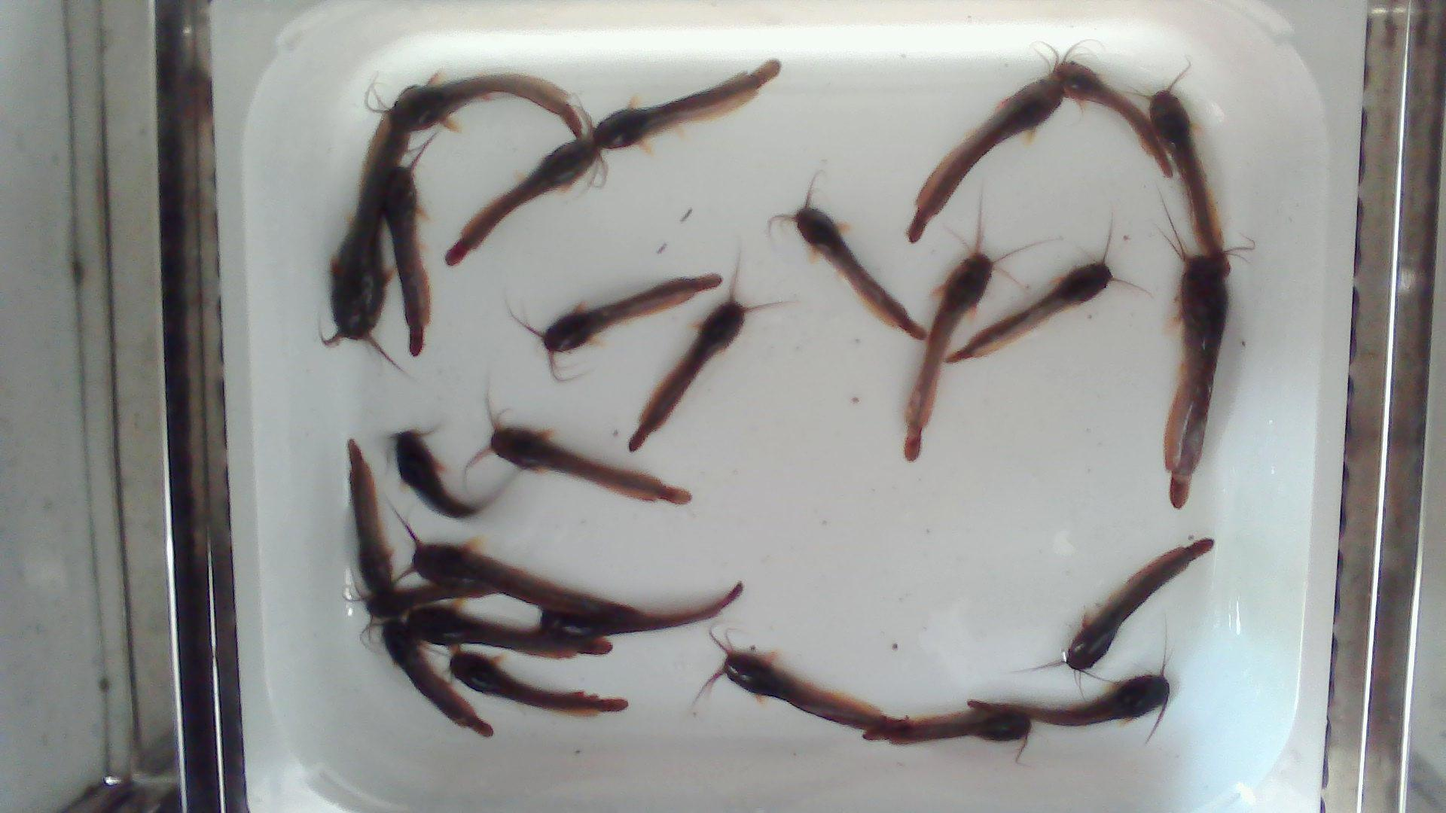lele: (906, 77, 1063, 242), (394, 519, 644, 622), (445, 110, 607, 266), (1163, 226, 1250, 509), (321, 108, 411, 371), (1126, 69, 1231, 278), (697, 631, 898, 732), (630, 285, 751, 451), (1065, 537, 1213, 671), (905, 254, 993, 460), (792, 206, 926, 339), (947, 261, 1112, 362), (592, 60, 779, 149), (490, 425, 690, 504), (538, 274, 722, 353), (1052, 62, 1174, 179), (390, 68, 583, 139), (382, 619, 493, 735), (541, 581, 742, 638), (450, 651, 627, 713), (406, 603, 612, 656), (969, 674, 1170, 726), (864, 710, 1031, 763), (384, 167, 429, 355), (392, 431, 481, 518), (347, 440, 392, 595), (367, 579, 505, 617)
